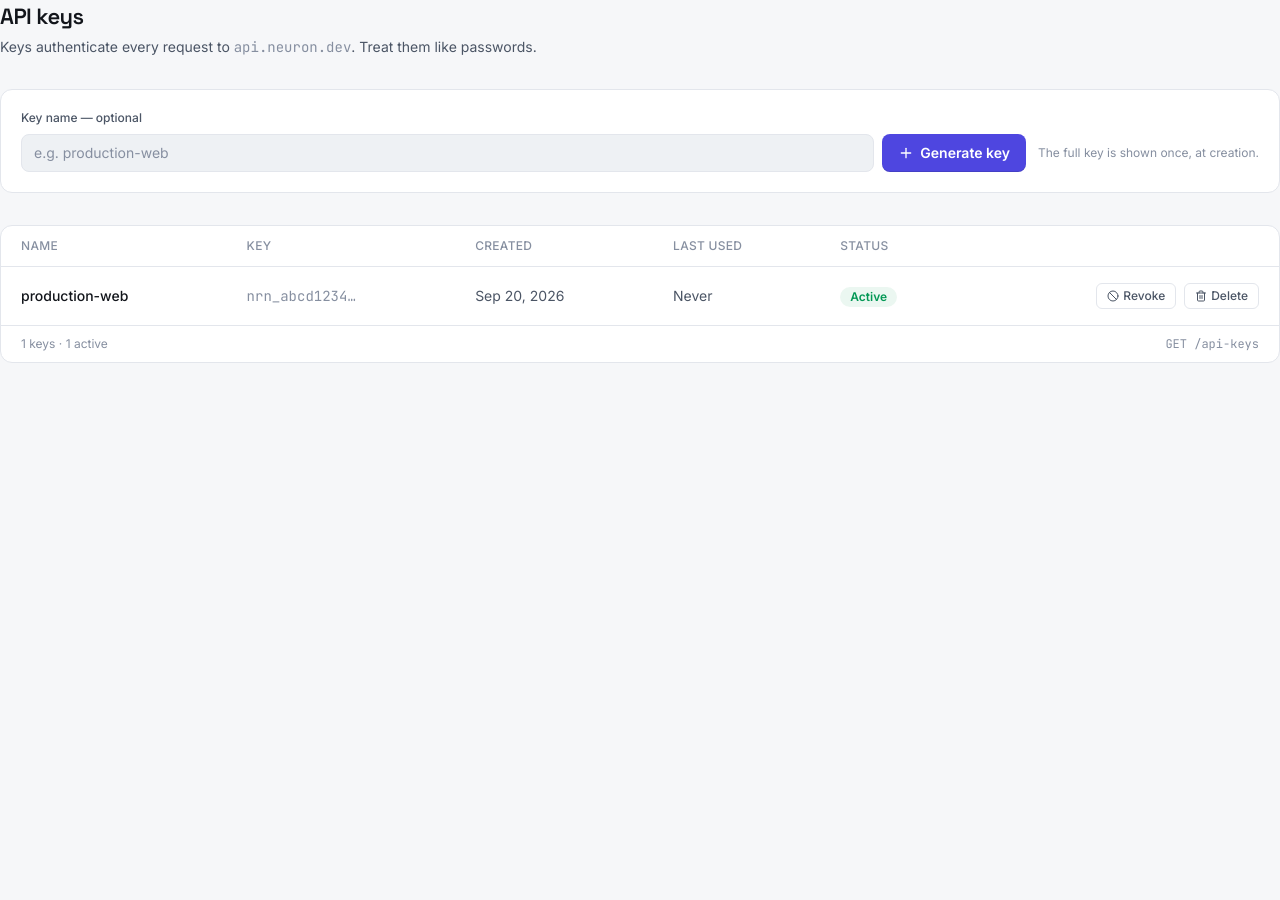
it: ApiKeysSection › opens a confirmation dialog instead of deleting straight away
Click the button "Delete" at {"x": 1222, "y": 296}, box [1184, 283, 1259, 309]
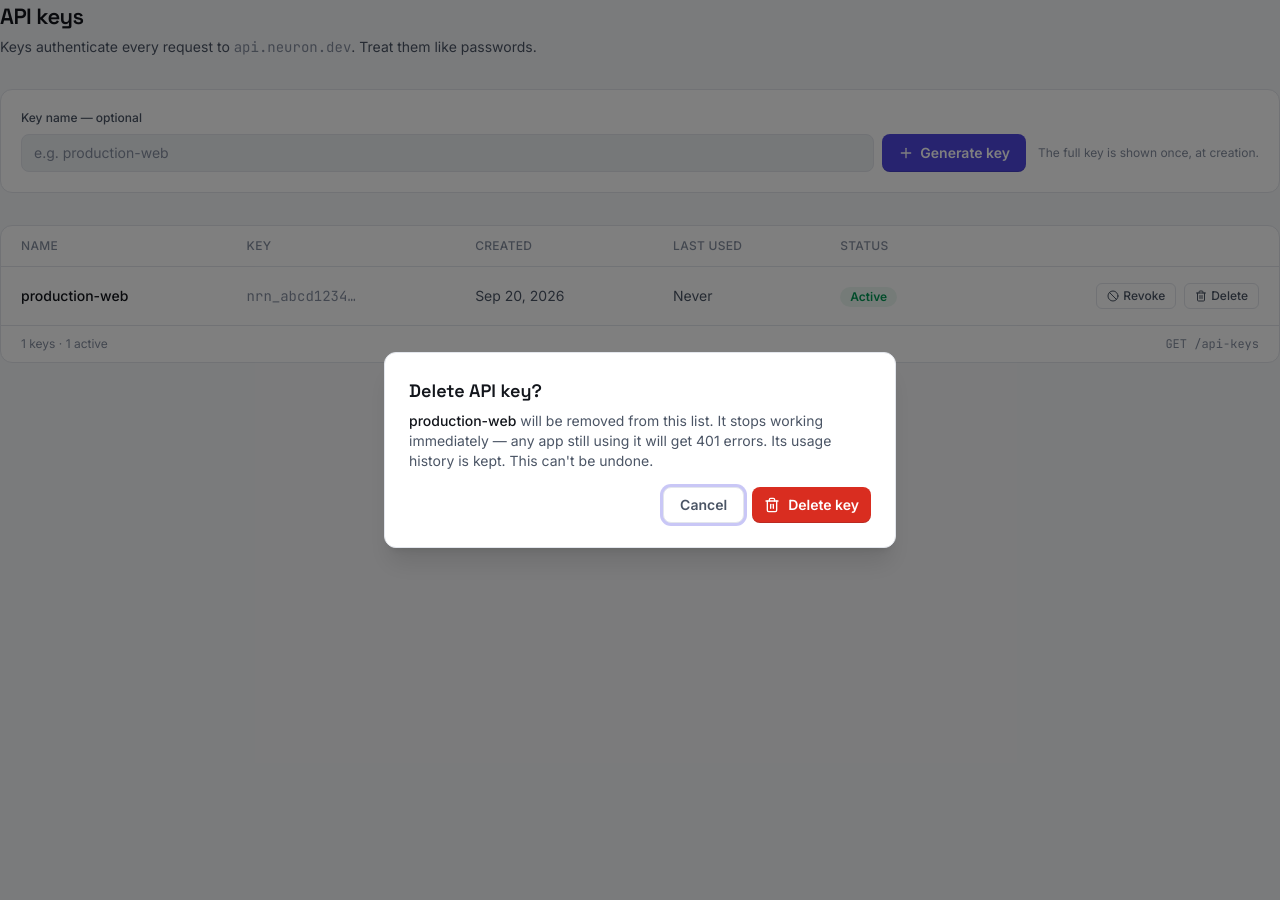
Expected: the heading "Delete API key?" is shown, [409, 377, 542, 405]
Expected: the text "production-web" is shown, [409, 412, 516, 429]
Expected: the text "stops working immediately" is shown, [409, 412, 823, 449]
